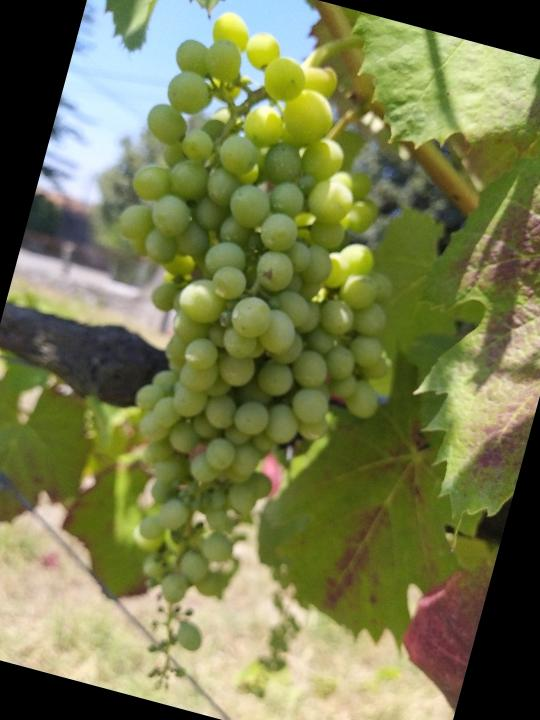grape: (1, 0, 470, 720)
